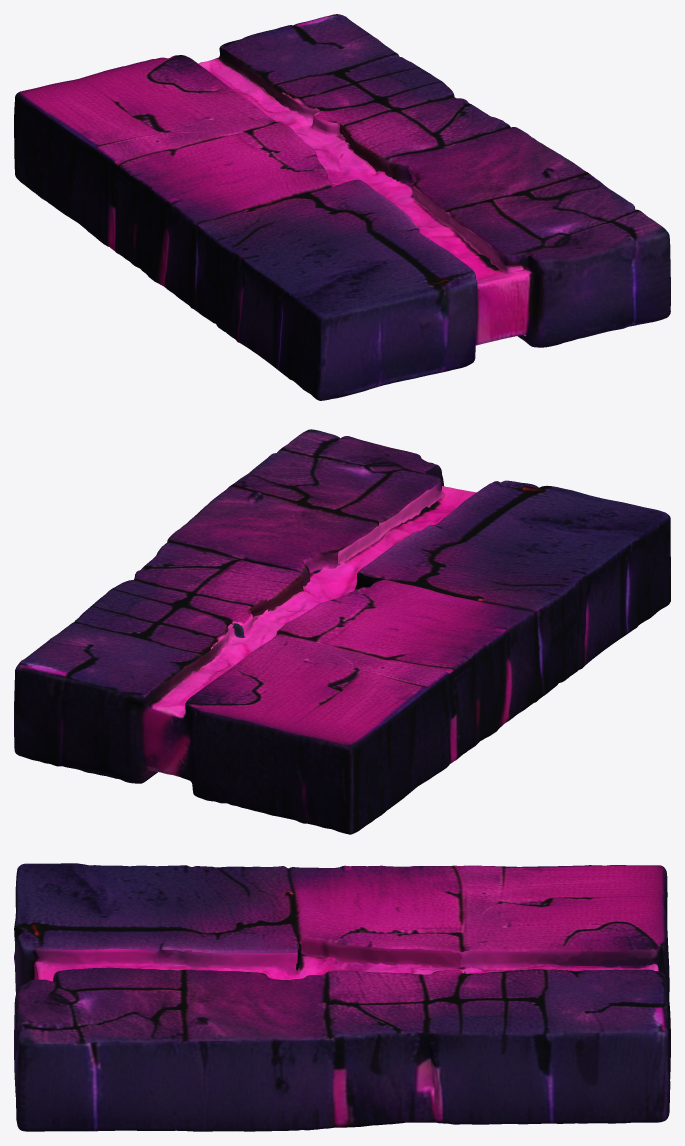
Rendered from approach-stone-5-generated-2026-05-17T18-22-11-356Z.high.glb.
The picture shows the model from 3 angles, top to bottom: view 1: azimuth 30°, elevation 25°; view 2: azimuth 150°, elevation 25°; view 3: azimuth 270°, elevation 25°; orthographic projection. The views are drawn at different scales.
Parts seen in each view (by area): view 1: temp_mesh.ply; view 2: temp_mesh.ply; view 3: temp_mesh.ply.
Part boxes in pixels (x1=…): temp_mesh.ply: x1=14, y1=14, x2=670, y2=400; temp_mesh.ply: x1=14, y1=429, x2=670, y2=834; temp_mesh.ply: x1=14, y1=863, x2=670, y2=1131.
Bounding box in the file's own units: 1.29 × 0.335 × 1.97.
Materials: 1 (1 with a texture image).
